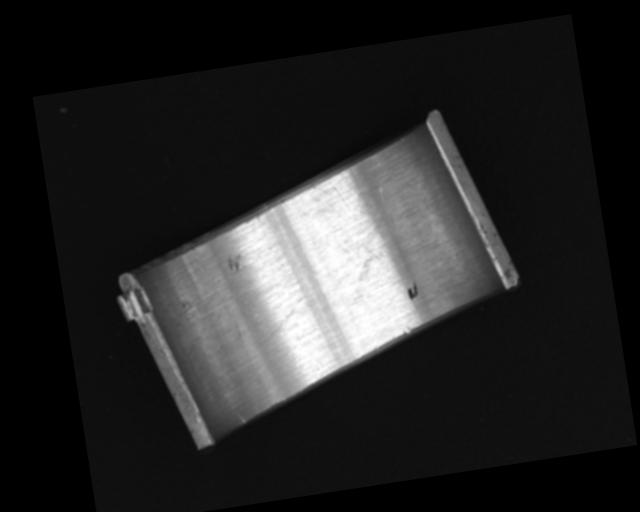blot: (344, 233, 391, 286), (405, 280, 419, 302)
bruise: (225, 251, 243, 273), (403, 326, 411, 335)
nick: (256, 294, 310, 342), (235, 412, 246, 425)
